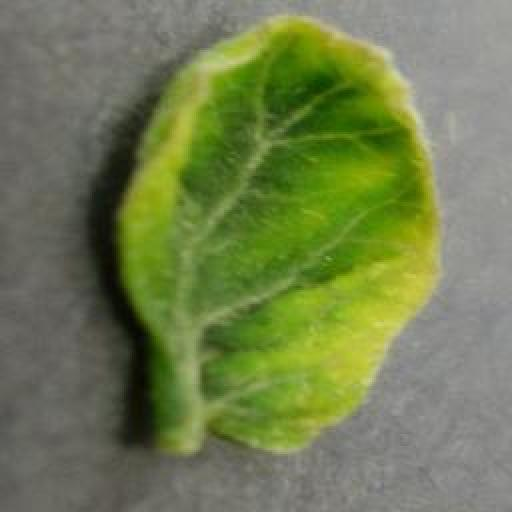Yellow Leaf Curl Virus: (112, 16, 443, 460)
